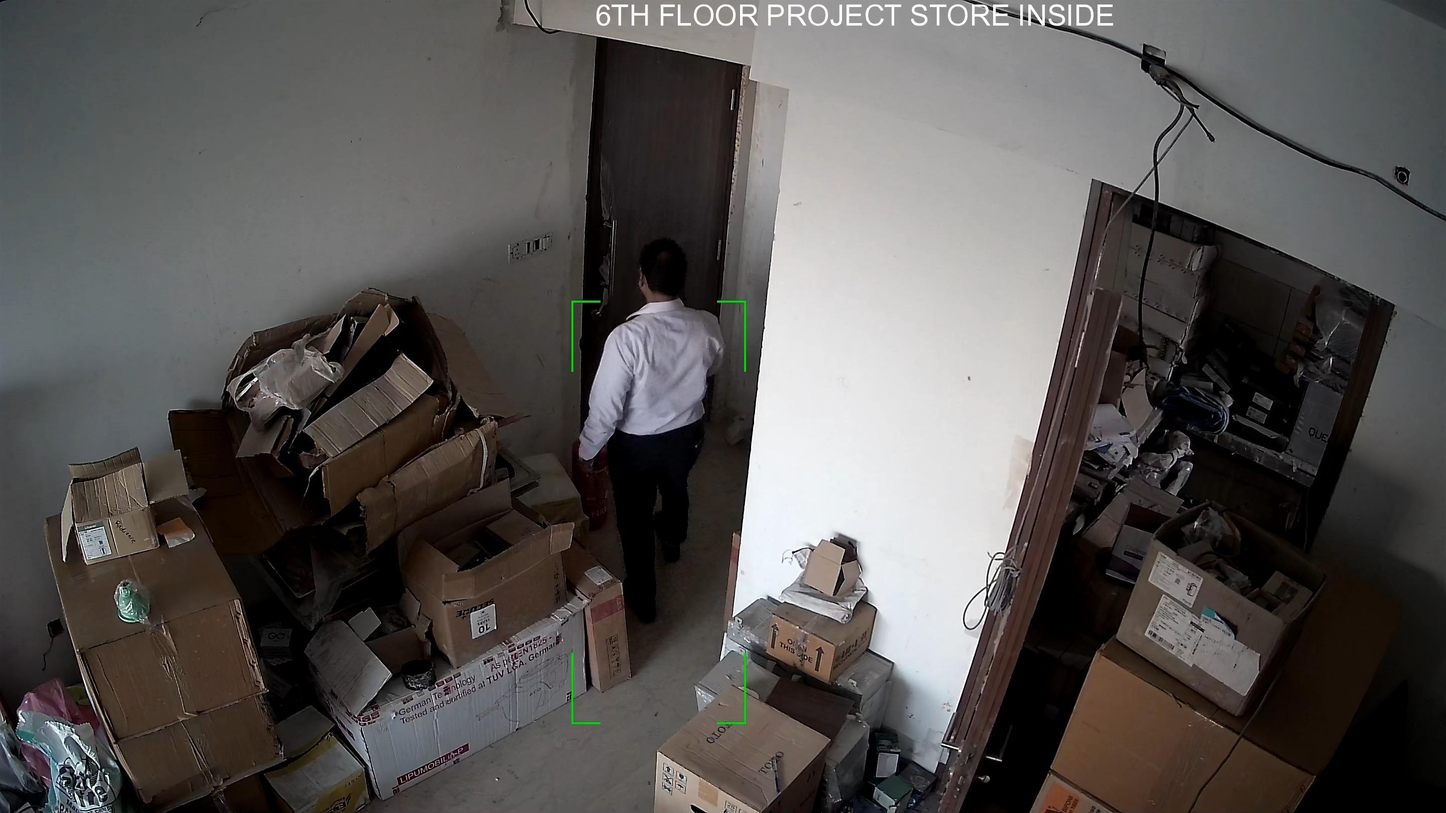Door-Close: (571, 33, 749, 440)
